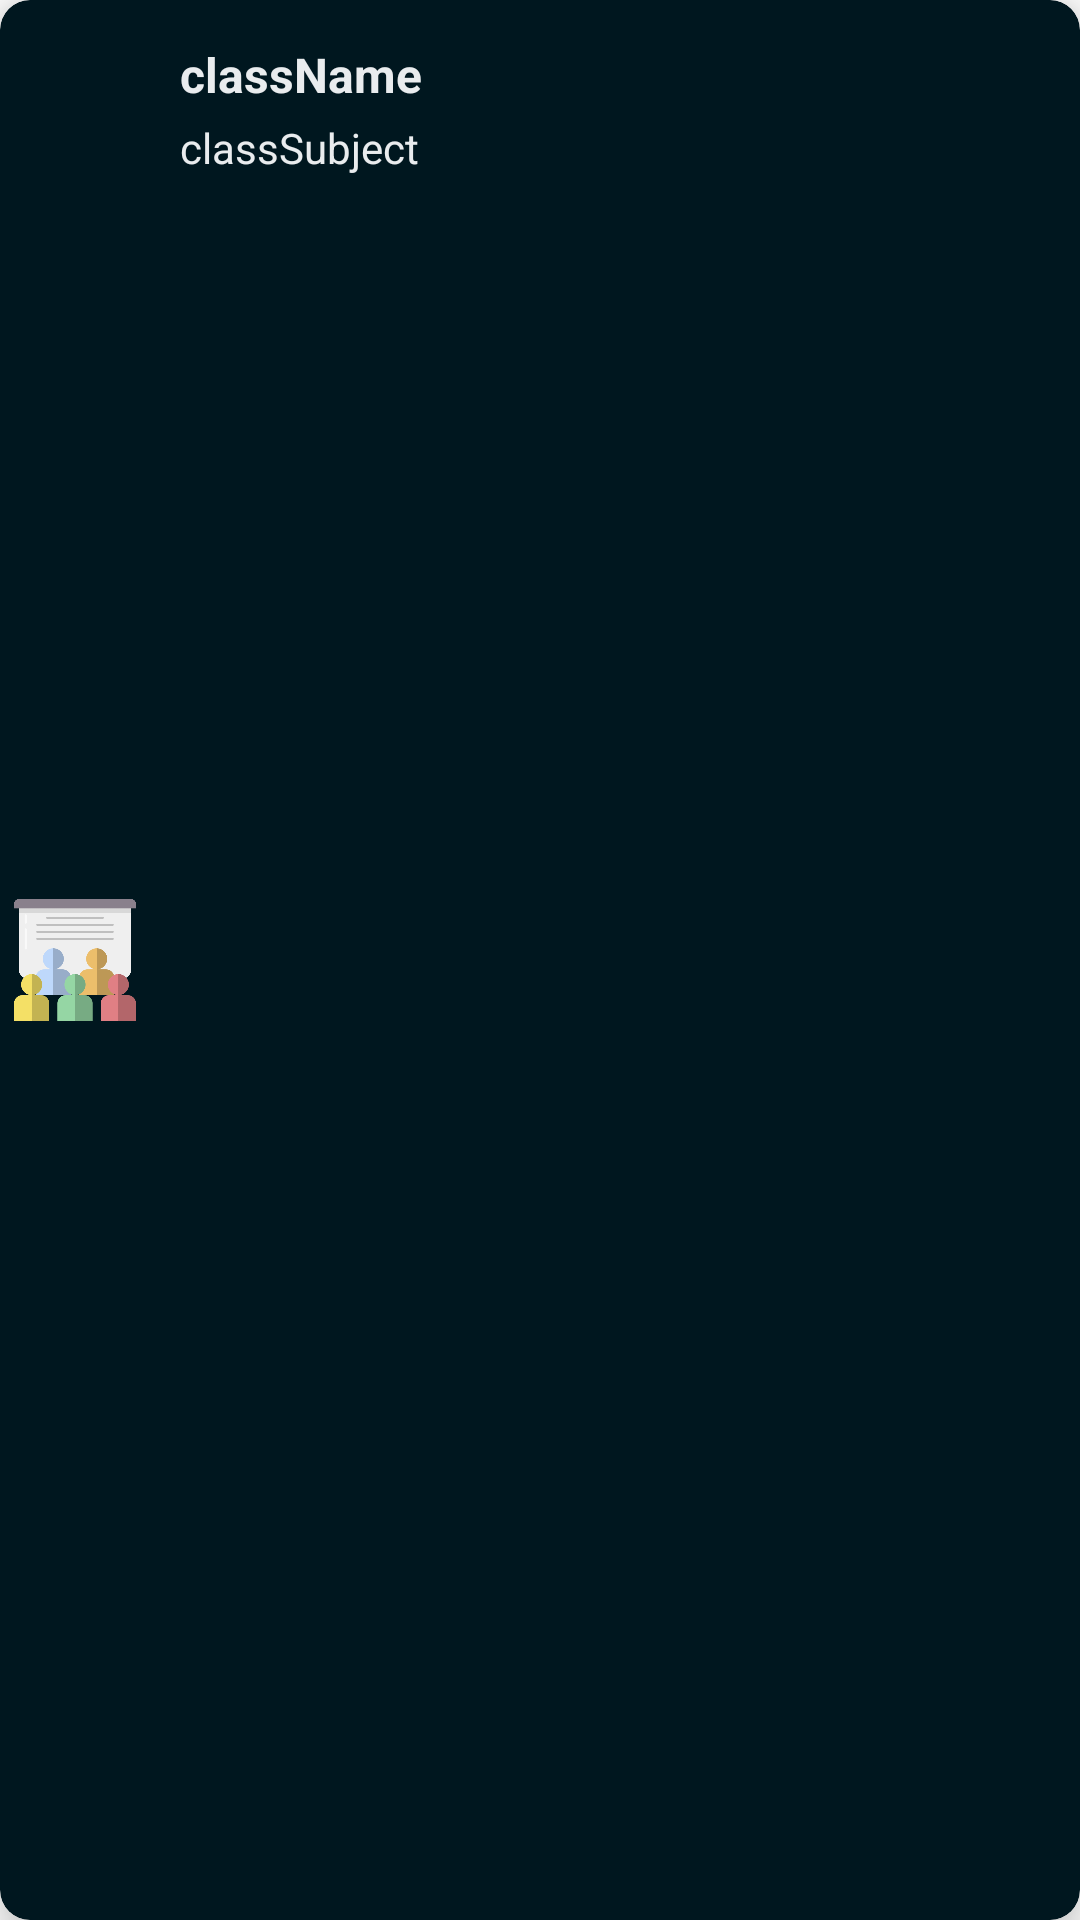

Screen size 1080 × 1920. Icon name, then its box in pixels as (x1, y1, x2, y2):
studi: (14, 899, 136, 1021)
